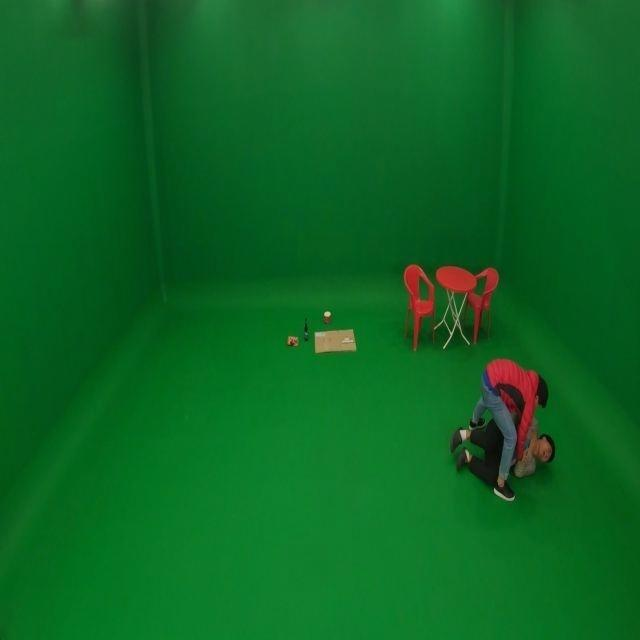fight: (447, 353, 558, 502)
